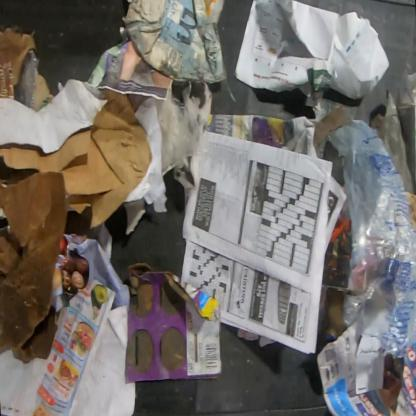cardboard: (0, 88, 153, 230), (0, 171, 67, 364), (126, 262, 223, 384), (0, 78, 109, 154)
soft_plastic: (325, 118, 416, 360), (158, 80, 212, 178), (377, 92, 414, 195), (14, 50, 38, 110)
